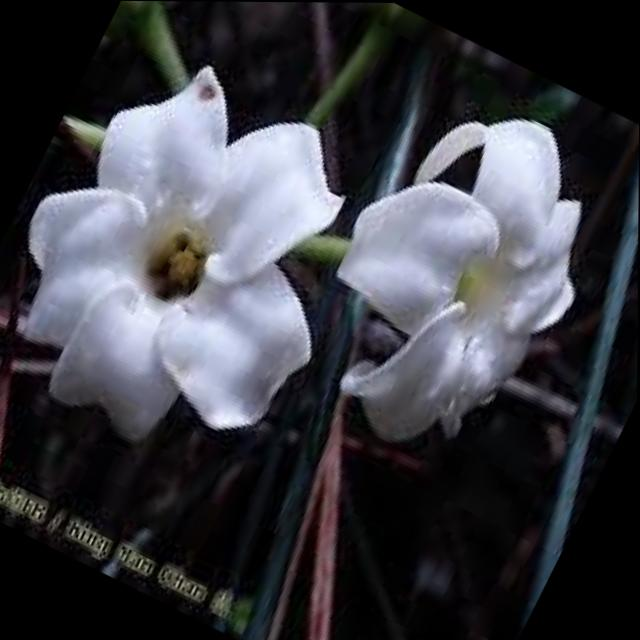Flower: (0, 29, 399, 491), (277, 67, 640, 492)
